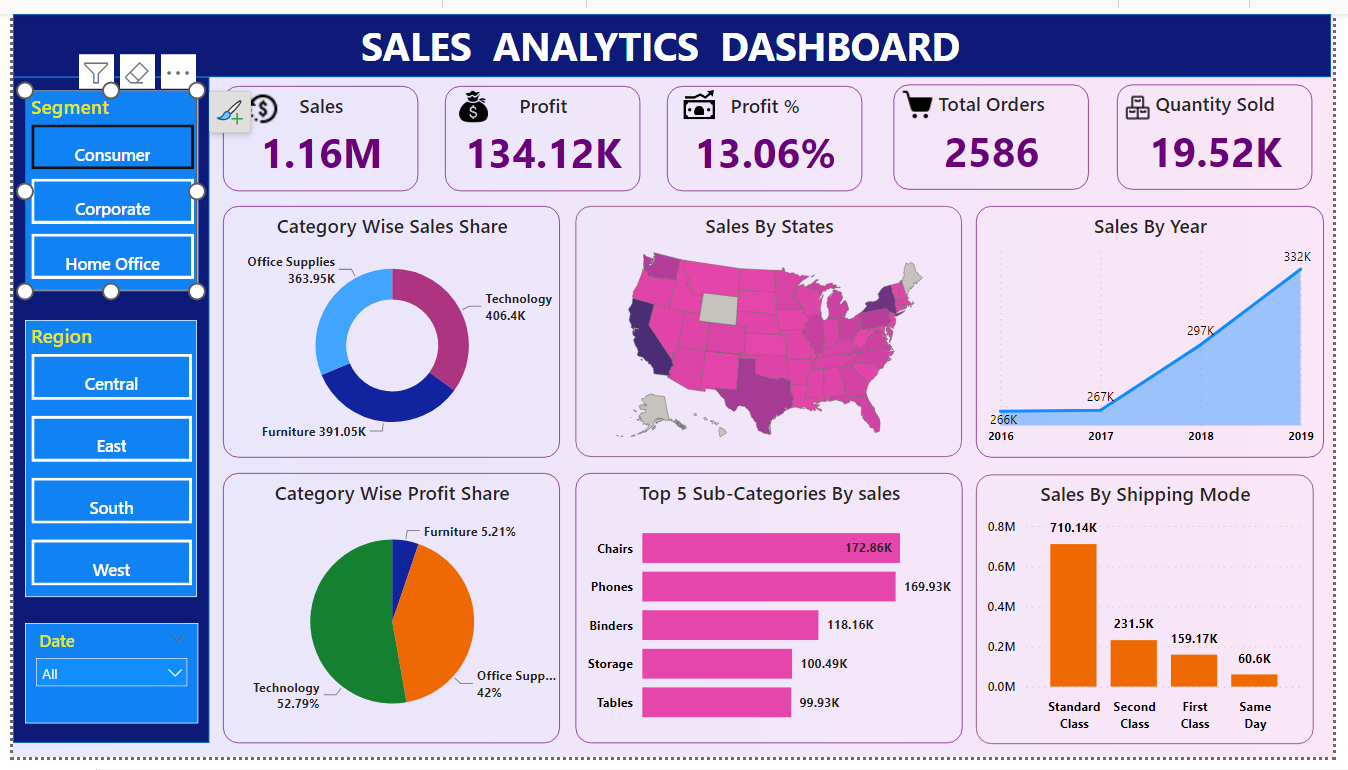

The dashboard page shown, as its layout file describes it:
{"tool":"powerbi","page":{"name":"Page 1","canvas":[1280,720],"ordinal":0},"visuals":[{"type":"card","title":"Sales","fields":{"Values":["Sum(Orders.Sales)"]},"box":[203.9,69.6,189.3,101.9],"z":0},{"type":"card","title":"Profit %","fields":{"Values":["Orders.Profit%"]},"box":[634.2,69.8,189.1,101.8],"z":1000},{"type":"card","title":"Total Orders","fields":{"Values":["Orders.Total orders"]},"box":[853.8,68.4,189.1,101.8],"z":2000},{"type":"card","title":"Quantity Sold","fields":{"Values":["Sum(Orders.Quantity)"]},"box":[1071.1,68,189.3,101.9],"z":3000},{"type":"card","title":"Profit","fields":{"Values":["Sum(Orders.Profit)"]},"box":[418.9,69.8,189.1,101.8],"z":4000},{"type":"image","box":[203.9,69.6,77.7,43.7],"z":5000},{"type":"image","box":[415.8,68,61.5,43.7],"z":6000},{"type":"image","box":[632.6,66.3,64.7,45.3],"z":7000},{"type":"image","box":[843.6,66.9,68.4,42.2],"z":8000},{"type":"image","box":[1063,72.8,55,35.6],"z":9000},{"type":"donutChart","title":"Category Wise Sales Share","fields":{"Category":["Orders.Category"],"Y":["Sum(Orders.Sales)"]},"box":[203.9,186.1,326.8,244.3],"z":10000},{"type":"pieChart","title":"Category Wise Profit Share","fields":{"Series":["Orders.Category"],"Y":["Sum(Orders.Profit)"]},"box":[203.9,444.9,326.8,262.1],"z":11000},{"type":"areaChart","title":"Sales  By Year","fields":{"Category":["Orders.Year"],"Y":["Sum(Orders.Sales)"]},"box":[934,185.9,337.1,244.1],"z":12000},{"type":"clusteredBarChart","title":"Top 5 Sub-Categories By sales","fields":{"Category":["Orders.Sub-Category"],"Y":["Sum(Orders.Sales)"]},"box":[545.3,444.9,375.4,262.1],"z":13000},{"type":"shapeMap","title":"Sales By States","fields":{"Category":["Orders.State"],"Value":["Sum(Orders.Sales)"]},"box":[544.8,186.3,374.7,243],"z":14000},{"type":"clusteredColumnChart","title":"Sales By Shipping Mode","fields":{"Category":["Orders.Ship Mode"],"Y":["Sum(Orders.Sales)"]},"box":[934,446,327,261],"z":15000},{"type":"shape","box":[0,0,1278.2,61.5],"z":16000},{"type":"textbox","box":[158.6,0,938.4,69.6],"z":17000},{"type":"shape","box":[0,61.1,190.5,645.8],"z":18000},{"type":"advancedSlicerVisual","fields":{"Values":["Orders.Segment"]},"box":[11.3,74.4,168.3,194.2],"z":19000},{"type":"advancedSlicerVisual","fields":{"Values":["Orders.Region"]},"box":[11.3,296.1,166.7,268.6],"z":20000},{"type":"slicer","fields":{"Values":["Orders.Order Date.Variation.Date Hierarchy.Year","Orders.Order Date.Variation.Date Hierarchy.Quarter","Orders.Order Date.Variation.Date Hierarchy.Month","Orders.Order Date.Variation.Date Hierarchy.Day"]},"box":[11.3,590.6,168.3,97.1],"z":21000}]}

Visuals, with their boxes in screenshot pixels (x1, y1, x2, y2), scaled from the page's 1280x720 canvas onto the 1348x770 screenshot:
"Sales" card: 215:74:414:183
"Profit %" card: 668:75:867:184
"Total Orders" card: 899:73:1098:182
"Quantity Sold" card: 1128:73:1327:182
"Profit" card: 441:75:640:184
image: 215:74:297:121
image: 438:73:503:119
image: 666:71:734:119
image: 888:72:960:117
image: 1119:78:1177:116
"Category Wise Sales Share" donutChart: 215:199:559:460
"Category Wise Profit Share" pieChart: 215:476:559:756
"Sales  By Year" areaChart: 984:199:1339:460
"Top 5 Sub-Categories By sales" clusteredBarChart: 574:476:970:756
"Sales By States" shapeMap: 574:199:968:459
"Sales By Shipping Mode" clusteredColumnChart: 984:477:1328:756
shape: 0:0:1346:66
textbox: 167:0:1155:74
shape: 0:65:201:756
advancedSlicerVisual - Orders.Segment: 12:80:189:287
advancedSlicerVisual - Orders.Region: 12:317:187:604
slicer - Orders.Order Date.Variation.Date Hierarchy.Year x Orders.Order Date.Variation.Date Hierarchy.Quarter: 12:632:189:735
